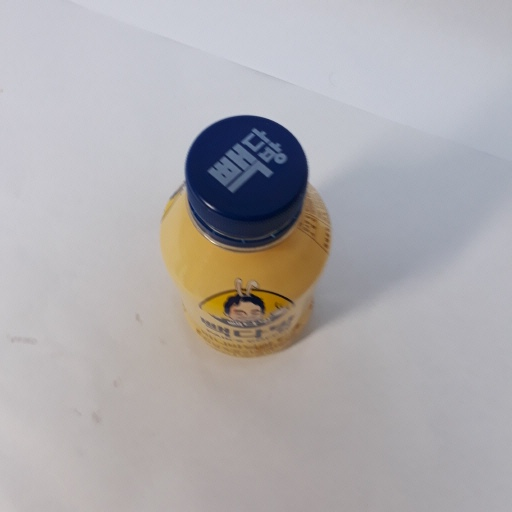Plastic_0: (152, 113, 336, 359)
